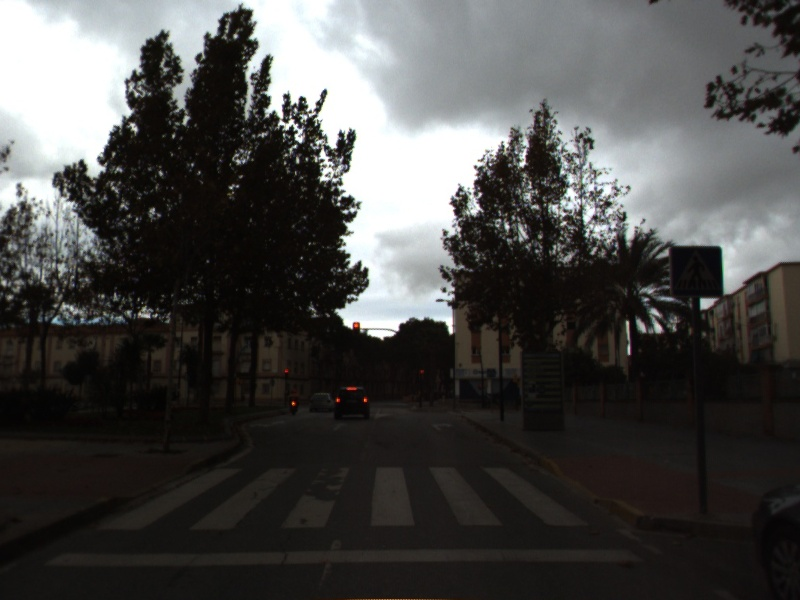RIGHT: (429, 420, 455, 433)
STRAIGHT: (330, 421, 349, 433)
STRAIGHT_LEFT: (248, 418, 286, 430)
